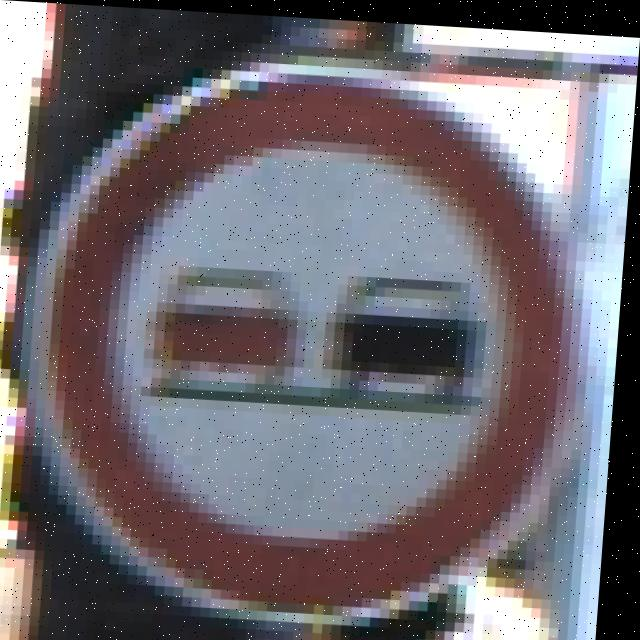no_overtaking: (36, 54, 568, 636)
